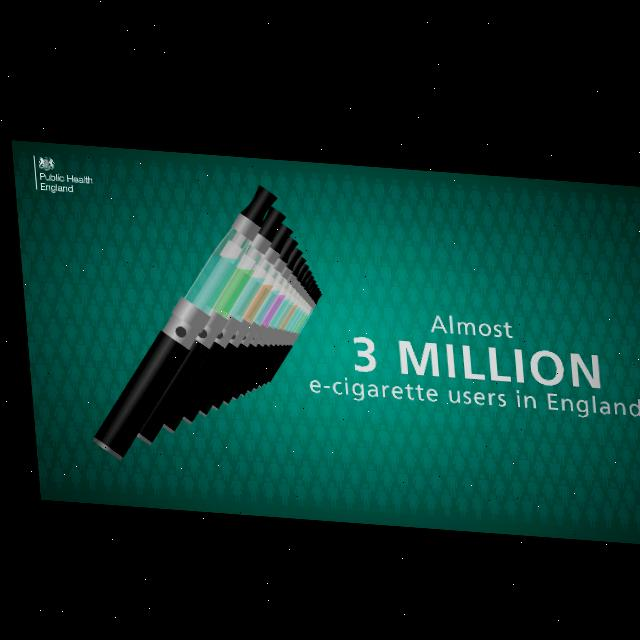vape: (86, 180, 275, 459), (130, 201, 284, 445)
